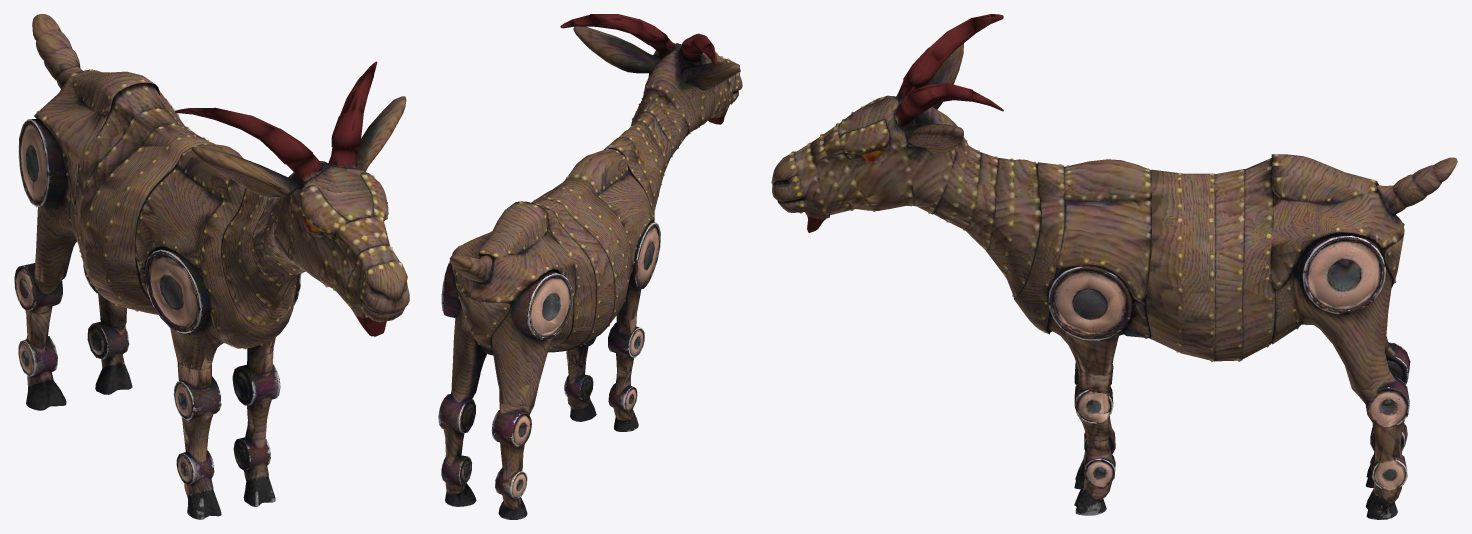
File: MZ4250 - Goat Steel Defender (Wood).glb
3 views of the same model, side by side, from view 1: azimuth 30°, elevation 25°; view 2: azimuth 150°, elevation 25°; view 3: azimuth 270°, elevation 25° (orthographic). The views are drawn at different scales.
Parts seen in each view (by area): view 1: Goat Steel Defender.001; view 2: Goat Steel Defender.001; view 3: Goat Steel Defender.001.
Boxes of the visible parts, box(x1,y1,x2,y2) form: Goat Steel Defender.001: box(14, 14, 409, 519); Goat Steel Defender.001: box(438, 14, 742, 519); Goat Steel Defender.001: box(771, 14, 1457, 519).
Bounding box in the file's own units: 24.86 × 51.54 × 72.4.
1 material, 1 textured.
